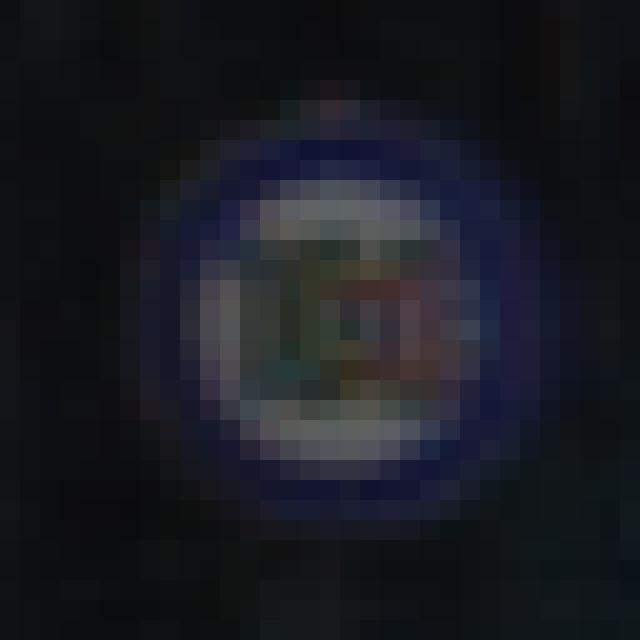SPEED LIMIT 100: (139, 129, 521, 512)
